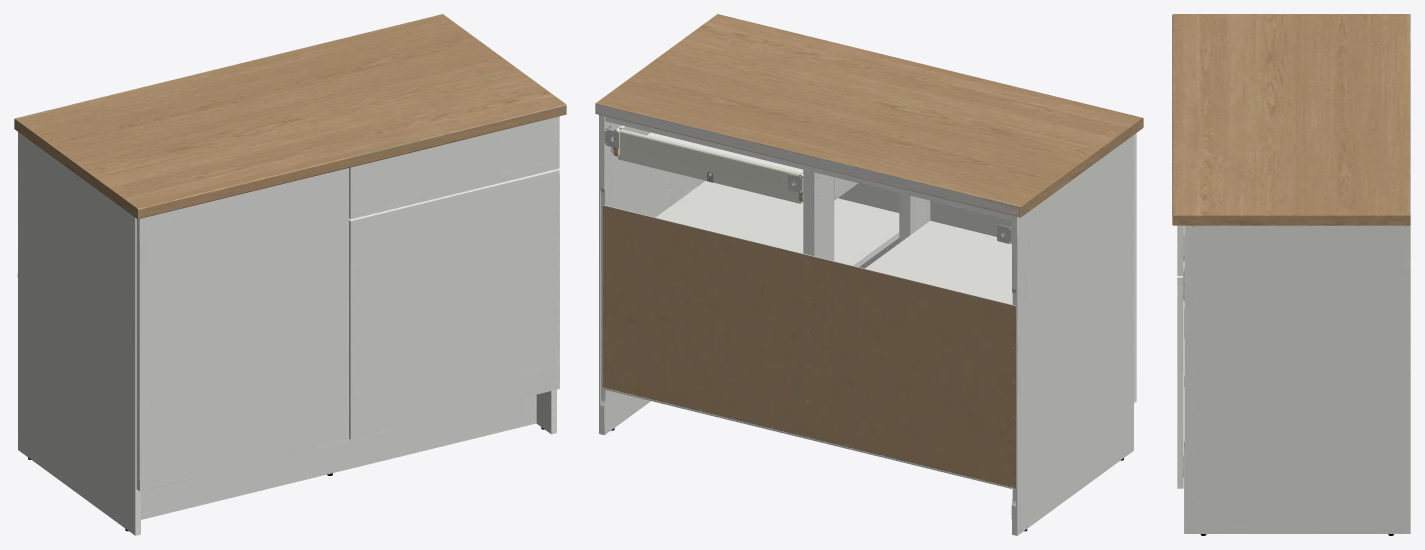
File: ikea-knoxhult-armario-bajo-con-puertas-y-cajon-blanco-demo.glb
3 views of the same model, side by side, from view 1: azimuth 30°, elevation 25°; view 2: azimuth 150°, elevation 25°; view 3: azimuth 270°, elevation 25° (orthographic). The views are drawn at different scales.
Parts seen in each view (by area): view 1: 30326790-KNOXHULT001; view 2: 30326790-KNOXHULT001; view 3: 30326790-KNOXHULT001.
Boxes of the visible parts, box(x1,y1,x2,y2) form: 30326790-KNOXHULT001: box(14, 14, 566, 535); 30326790-KNOXHULT001: box(595, 14, 1143, 535); 30326790-KNOXHULT001: box(1172, 14, 1410, 535).
Size of the model in its own units: 1.22 by 0.9094 by 0.6103.
Materials: 2 (1 with a texture image).
